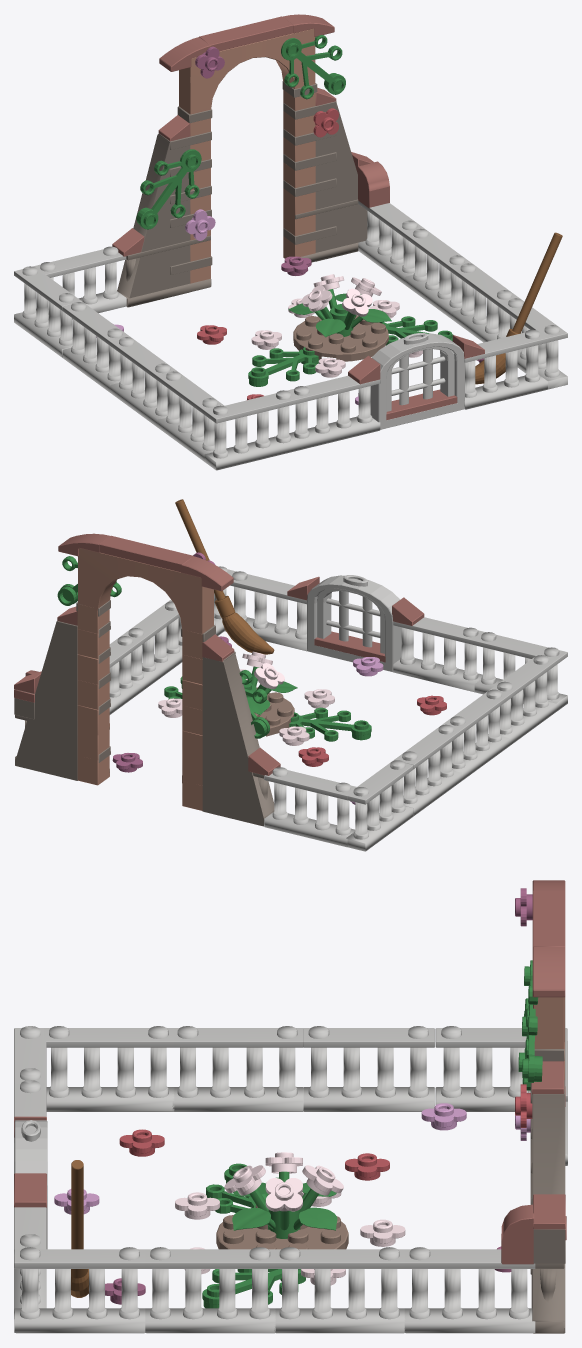
File: garden.glb
The picture shows the model from 3 angles, top to bottom: view 1: azimuth 30°, elevation 25°; view 2: azimuth 150°, elevation 25°; view 3: azimuth 270°, elevation 25°; orthographic projection. The views are drawn at different scales.
Parts seen in each view (by area): view 1: Oh_hes_all_together_phong15_0, Oh_hes_all_together_LegoWhite_0, Oh_hes_all_together_phong16_0, Oh_hes_all_together_LegoGreen_0, Oh_hes_all_together_phongE1_0, Oh_hes_all_together_phong9_0, Oh_hes_all_together_phong5_0, Oh_hes_all_together_Broom_0, Oh_hes_all_together_phong3_0, Oh_hes_all_together_phong2_0, Oh_hes_all_together_phong4_0; view 2: Oh_hes_all_together_phong15_0, Oh_hes_all_together_LegoWhite_0, Oh_hes_all_together_phong16_0, Oh_hes_all_together_phongE1_0, Oh_hes_all_together_LegoGreen_0, Oh_hes_all_together_phong9_0, Oh_hes_all_together_Broom_0, Oh_hes_all_together_phong5_0, Oh_hes_all_together_phong3_0, Oh_hes_all_together_phong2_0, Oh_hes_all_together_phong4_0; view 3: Oh_hes_all_together_phong15_0, Oh_hes_all_together_phongE1_0, Oh_hes_all_together_LegoWhite_0, Oh_hes_all_together_LegoGreen_0, Oh_hes_all_together_phong9_0, Oh_hes_all_together_phong5_0, Oh_hes_all_together_phong3_0, Oh_hes_all_together_phong4_0, Oh_hes_all_together_Broom_0, Oh_hes_all_together_phong16_0, Oh_hes_all_together_phong2_0.
Part boxes in pixels (x1,y1,x2,y2): Oh_hes_all_together_phong15_0: [14, 201, 567, 470]; Oh_hes_all_together_LegoWhite_0: [117, 81, 367, 307]; Oh_hes_all_together_phong16_0: [179, 28, 315, 283]; Oh_hes_all_together_LegoGreen_0: [136, 35, 453, 386]; Oh_hes_all_together_phongE1_0: [112, 14, 484, 420]; Oh_hes_all_together_phong9_0: [251, 274, 422, 377]; Oh_hes_all_together_phong5_0: [293, 311, 388, 361]; Oh_hes_all_together_Broom_0: [475, 232, 562, 384]; Oh_hes_all_together_phong3_0: [197, 108, 338, 400]; Oh_hes_all_together_phong2_0: [195, 46, 484, 362]; Oh_hes_all_together_phong4_0: [96, 209, 358, 404]; Oh_hes_all_together_phong15_0: [109, 566, 567, 851]; Oh_hes_all_together_LegoWhite_0: [14, 600, 274, 826]; Oh_hes_all_together_phong16_0: [77, 548, 213, 810]; Oh_hes_all_together_phongE1_0: [14, 533, 424, 775]; Oh_hes_all_together_LegoGreen_0: [57, 556, 371, 741]; Oh_hes_all_together_phong9_0: [158, 651, 334, 745]; Oh_hes_all_together_Broom_0: [175, 499, 274, 654]; Oh_hes_all_together_phong5_0: [254, 687, 294, 736]; Oh_hes_all_together_phong3_0: [298, 695, 446, 766]; Oh_hes_all_together_phong2_0: [112, 552, 231, 772]; Oh_hes_all_together_phong4_0: [350, 657, 383, 804]; Oh_hes_all_together_phong15_0: [14, 1026, 567, 1333]; Oh_hes_all_together_phongE1_0: [14, 880, 566, 1264]; Oh_hes_all_together_LegoWhite_0: [530, 997, 565, 1333]; Oh_hes_all_together_LegoGreen_0: [202, 960, 542, 1308]; Oh_hes_all_together_phong9_0: [175, 1152, 405, 1285]; Oh_hes_all_together_phong5_0: [216, 1205, 348, 1249]; Oh_hes_all_together_phong3_0: [119, 1084, 532, 1180]; Oh_hes_all_together_phong4_0: [54, 1103, 530, 1214]; Oh_hes_all_together_Broom_0: [71, 1160, 88, 1297]; Oh_hes_all_together_phong16_0: [533, 997, 564, 1079]; Oh_hes_all_together_phong2_0: [105, 888, 532, 1304].
Bounding box in the file's own units: 6.72 × 4.28 × 6.39.
